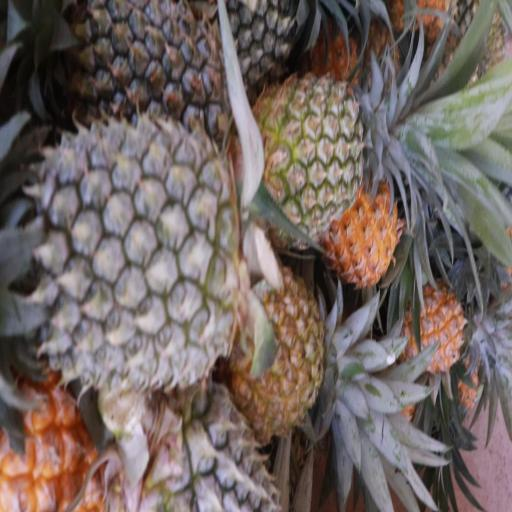------------------------------: (255, 78, 366, 226), (238, 273, 328, 429)
Pineapple - v8 v1: (329, 174, 399, 286), (394, 290, 464, 371)
